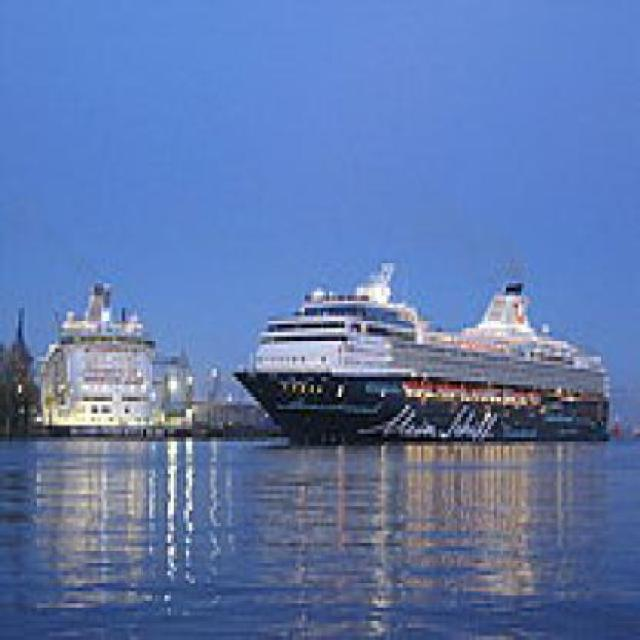cruise: (236, 256, 623, 471)
